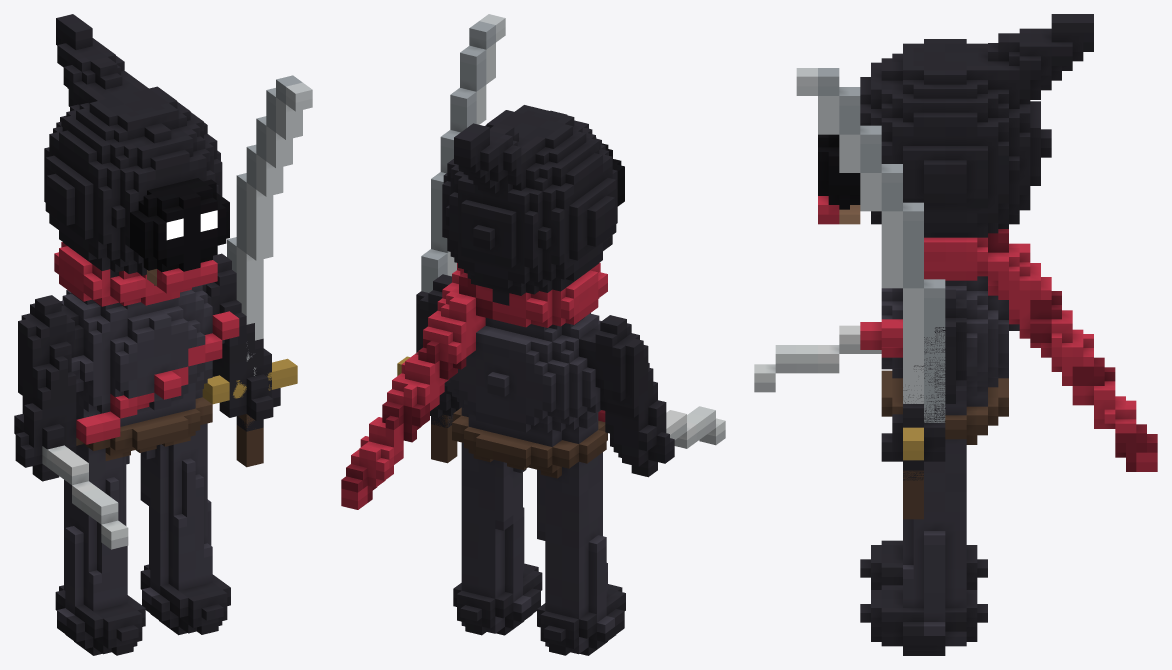
The model's file is u_lame.glb.
The picture shows the model from 3 angles, left to right: view 1: azimuth 30°, elevation 25°; view 2: azimuth 150°, elevation 25°; view 3: azimuth 270°, elevation 25°; orthographic projection. The views are drawn at different scales.
Parts seen in each view (by area): view 1: lame_body, lame_weapon, lame_glow; view 2: lame_body, lame_weapon; view 3: lame_body, lame_weapon.
Part boxes in pixels (x1=…): lame_body: x1=14, y1=14, x2=280, y2=655; lame_weapon: x1=202, y1=75, x2=312, y2=467; lame_glow: x1=166, y1=210, x2=217, y2=240; lame_body: x1=341, y1=105, x2=725, y2=655; lame_weapon: x1=397, y1=14, x2=505, y2=463; lame_body: x1=754, y1=14, x2=1157, y2=655; lame_weapon: x1=796, y1=68, x2=945, y2=519.
Size of the model in its own units: 0.8 by 1.58 by 0.95.
